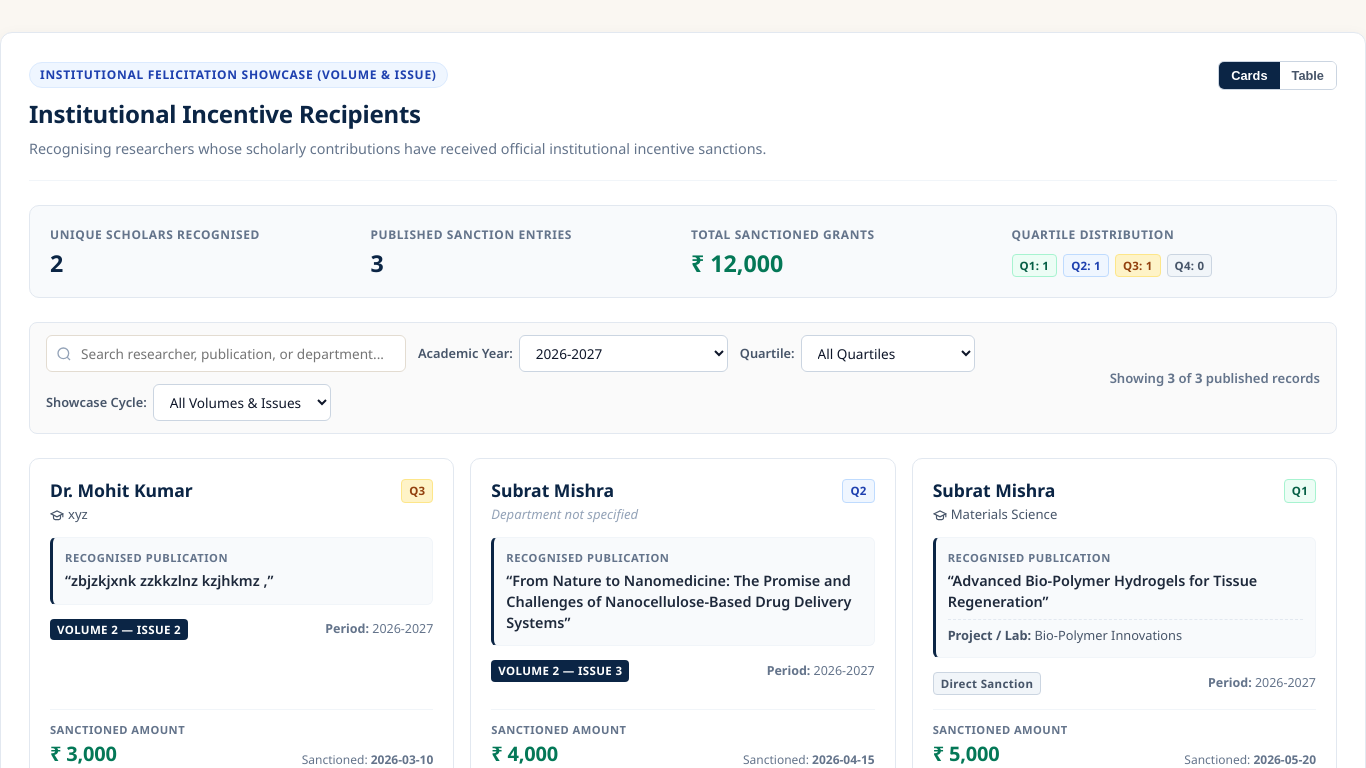
Scenario: InstitutionalIncentiveRecipients Component Tests › 5. Filters records dynamically by Volume & Issue
// Filter to Volume 2 · Issue 3 (Subrat Mishra's first paper)
Select "Volume 2 · Issue 3" in the dropdown named "Filter by Volume and Issue": (242, 403) [153,384,331,422]
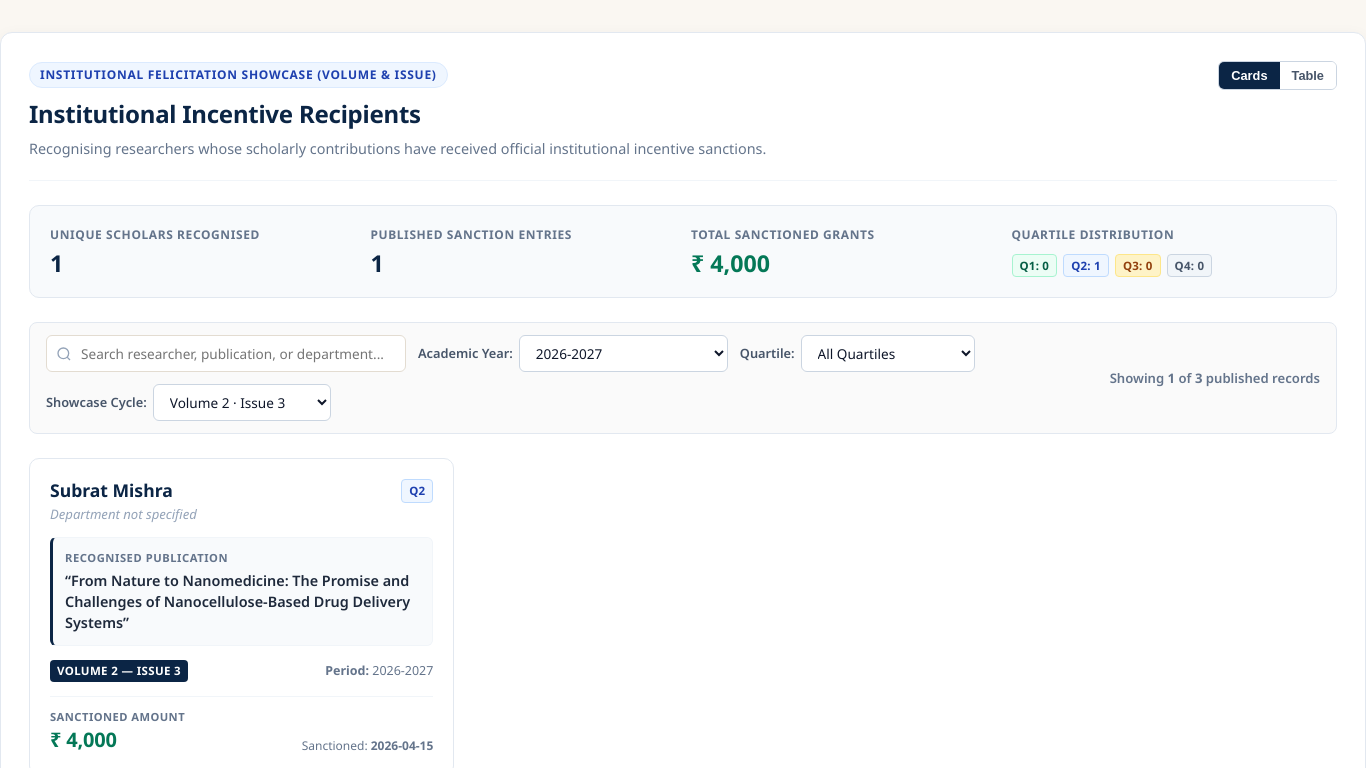
expect the text "From Nature to Nanomedicine" is shown: met, box [65,571,410,632]
expect the heading "Dr. Mohit Kumar" is gone: met
expect the text "Advanced Bio-Polymer Hydrogels for Tissue Regeneration" is gone: met
